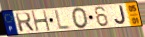6: (94, 5, 110, 28)
H: (30, 9, 52, 33)
J: (114, 5, 128, 26)
L: (54, 9, 71, 30)
O: (71, 7, 90, 30)
R: (14, 12, 36, 33)
